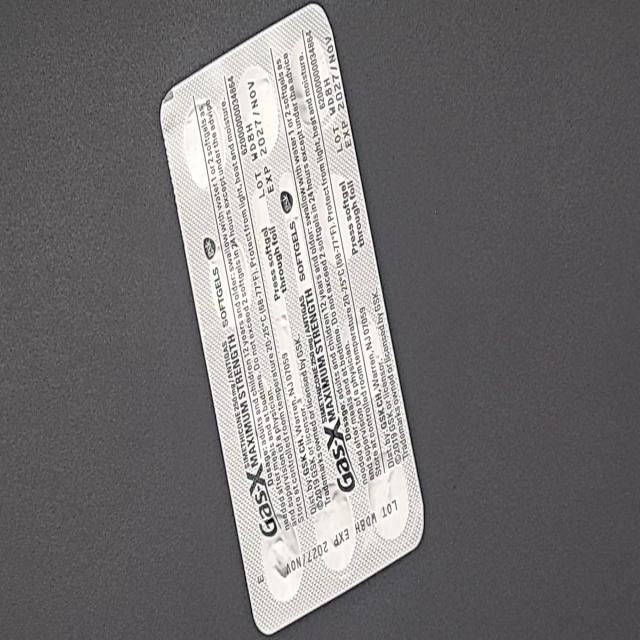no defect: (6, 13, 28, 58)
